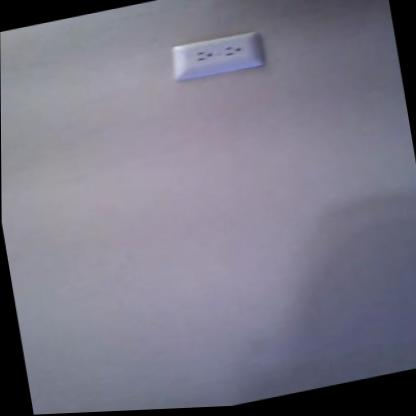OUTLET: (169, 26, 264, 83)
